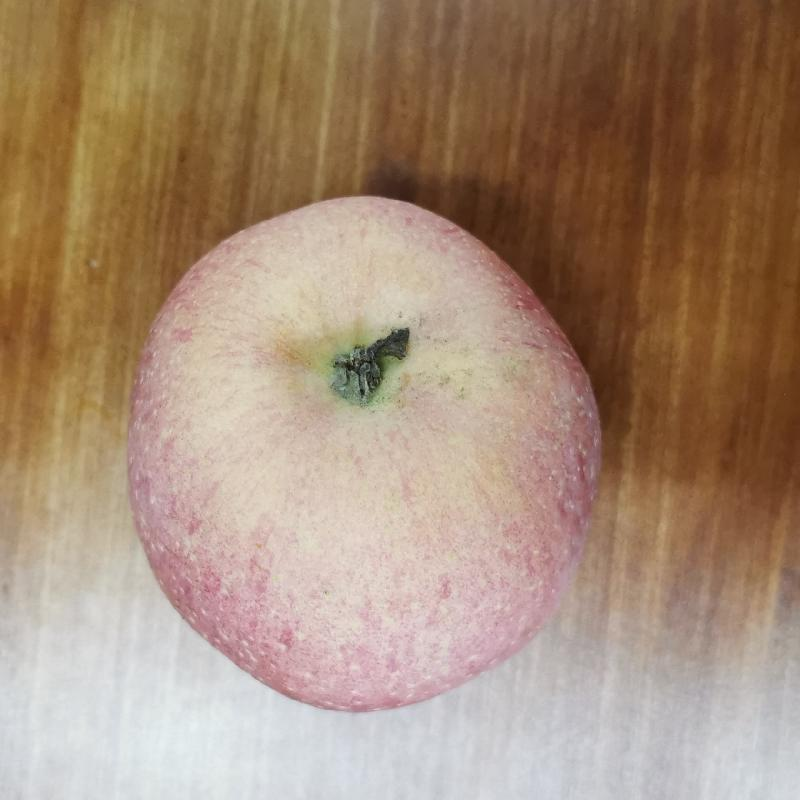apples: (125, 186, 607, 718)
